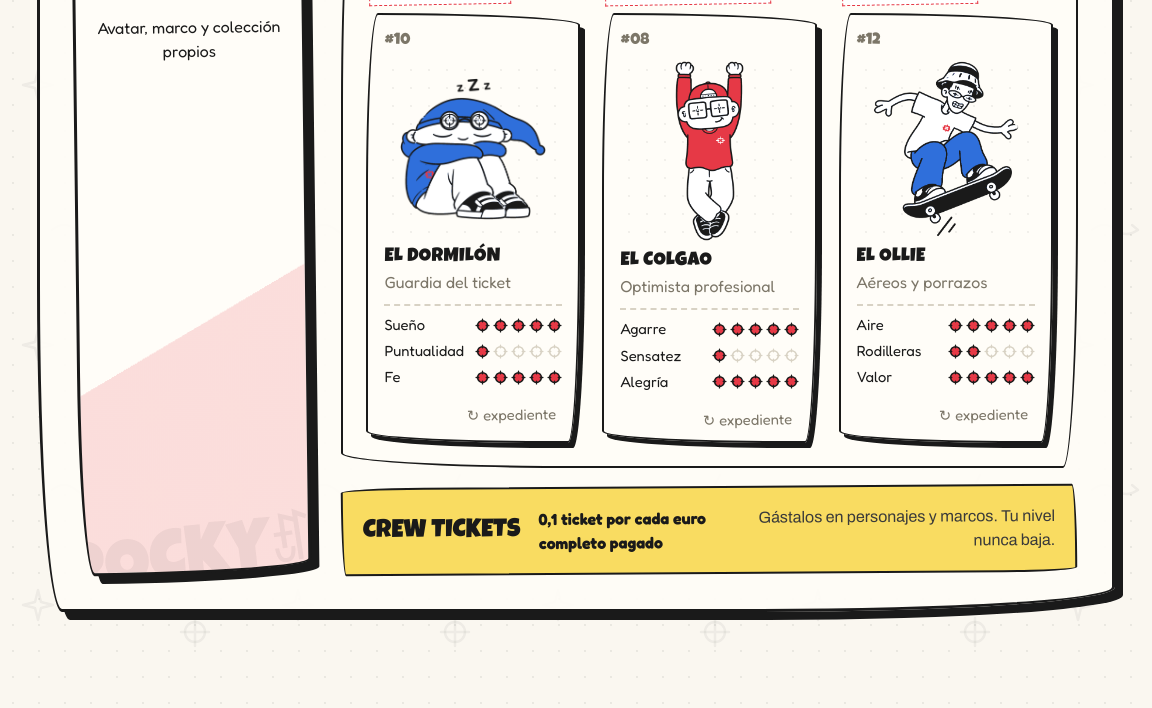
Test: CrewProfile › lets visitors flip early Crew cards to inspect their reverse
(page scrolled)
Expected: the element named "Cromo de El Colgao" is shown, [602,13,816,443]
Expected: the element named "Cromo de El Ollie" is shown, [838,13,1052,443]
Click the button "↻ expediente" below "Puntualidad": (512, 415) [461,402,563,428]
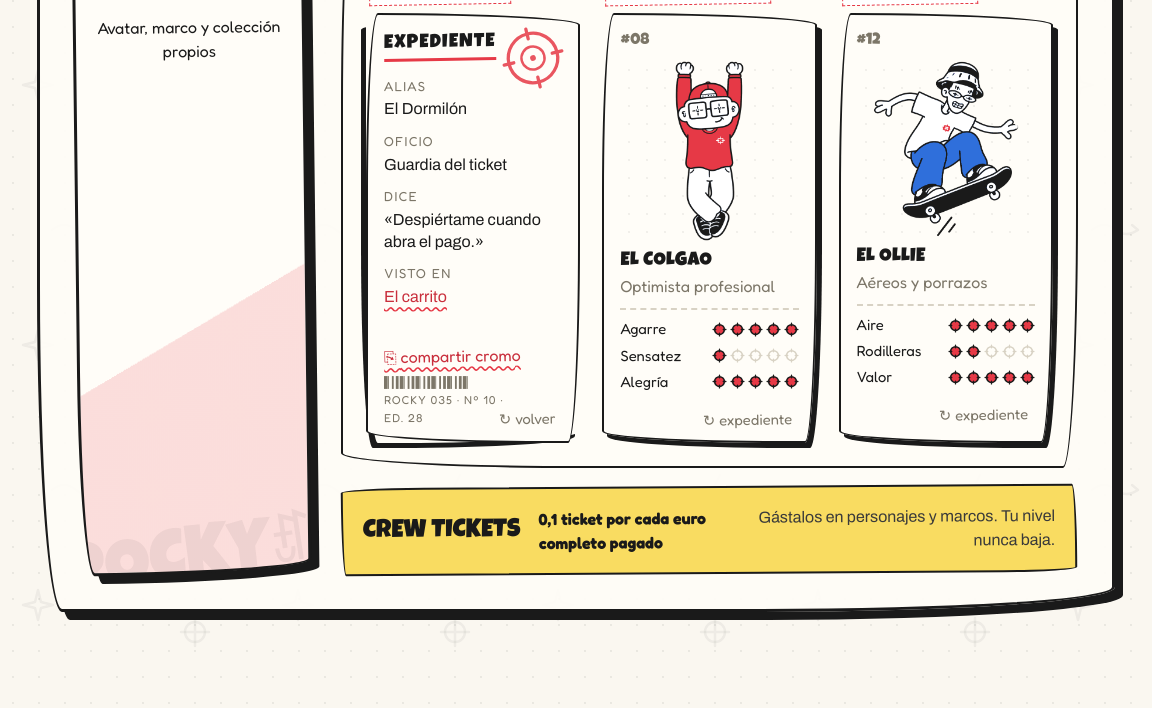
Expected: the button "↻ volver" is shown, [494,406,563,432]
Result: the button "↻ expediente" below "Puntualidad" is expanded at [384,402,486,428]
